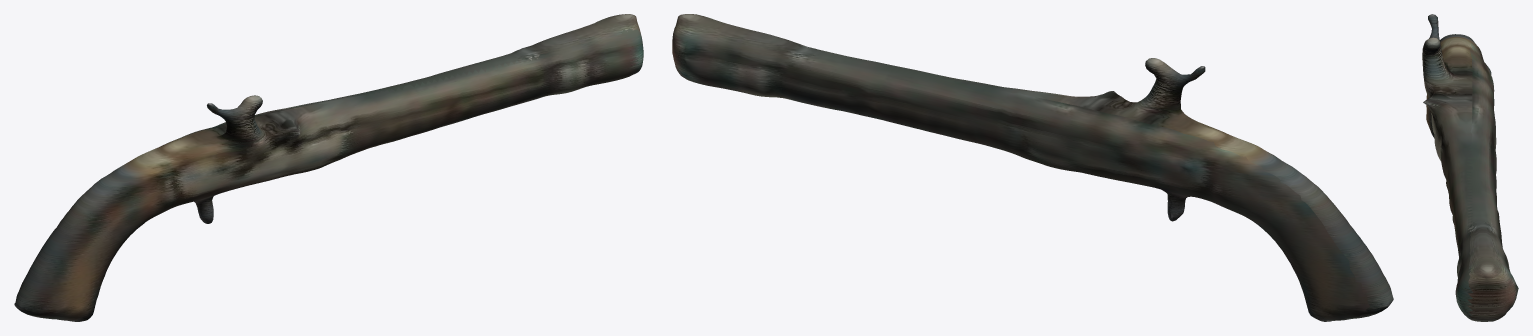
The model's file is kfl-2171.glb.
The picture shows the model from 3 angles, left to right: view 1: azimuth 30°, elevation 25°; view 2: azimuth 150°, elevation 25°; view 3: azimuth 270°, elevation 25°; orthographic projection. The views are drawn at different scales.
Parts seen in each view (by area): view 1: geometry_0; view 2: geometry_0; view 3: geometry_0.
Boxes of the visible parts, x1=… form: geometry_0: x1=14, y1=14, x2=643, y2=321; geometry_0: x1=672, y1=14, x2=1393, y2=321; geometry_0: x1=1422, y1=14, x2=1518, y2=321.
Size of the model in its own units: 0.9889 by 0.2873 by 0.1314.
Materials: 1 (1 with a texture image).
